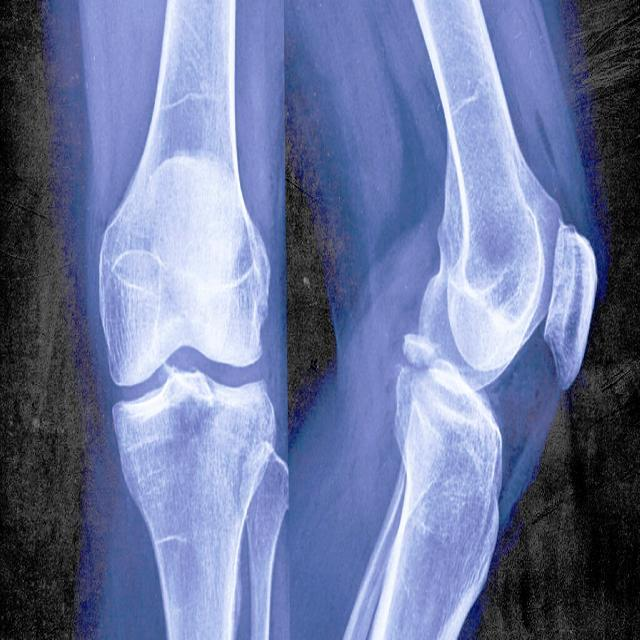Avlusion Fracture: (369, 312, 465, 385)
